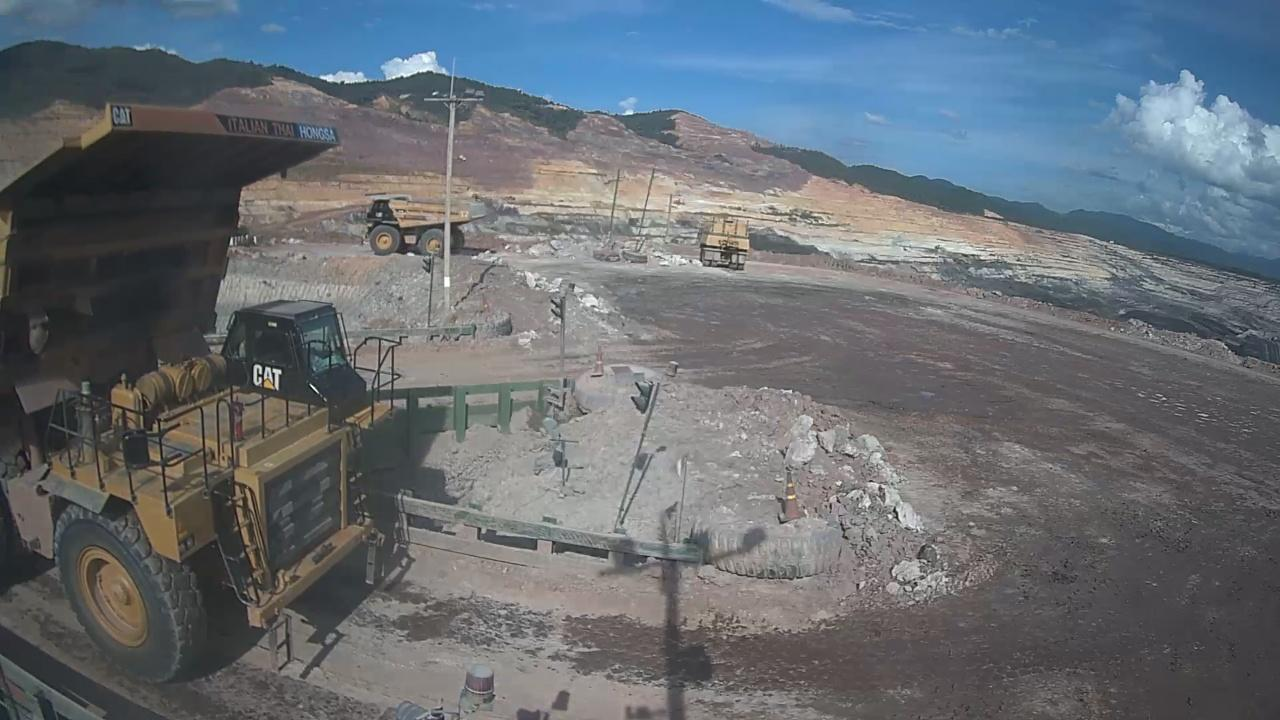dumping_soil: (0, 96, 424, 694)
front_number: (264, 458, 342, 560)
